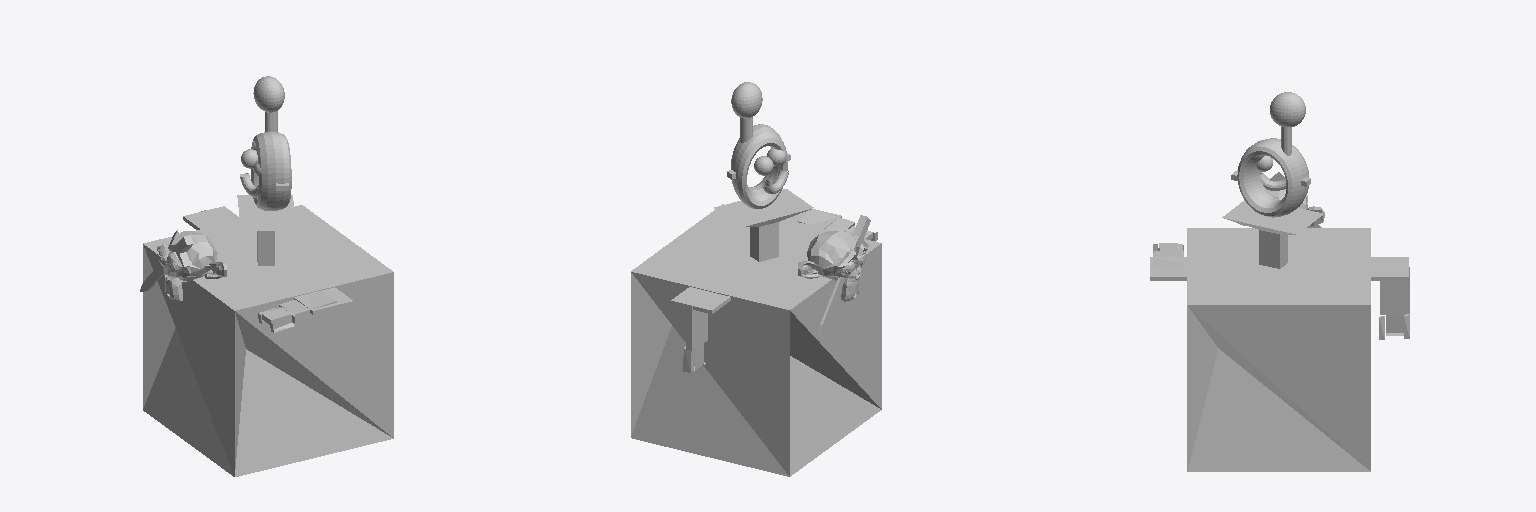
Rendered from Robot_000027.obj.
3 views of the same model, side by side, from view 1: azimuth 30°, elevation 25°; view 2: azimuth 150°, elevation 25°; view 3: azimuth 270°, elevation 25° (orthographic).
Visible parts, largest first — view 1: Cube.001_Cube, Cube_Cube.001, Suzanne, Left_Hand.001_Cube.005, Cube.002_Cube.004, Sphere, Cube.003_Cube.006; view 2: Cube.001_Cube, Cube_Cube.001, Suzanne, Left_Hand_Cube.002, Cube.002_Cube.004, Cube.003_Cube.006, Sphere, Left_Hand.001_Cube.005; view 3: Cube.001_Cube, Cube_Cube.001, Left_Hand_Cube.002, Cube.002_Cube.004, Sphere, Left_Hand.001_Cube.005.
Boxes of the visible parts, <box> form: Cube.001_Cube: <box>143,205,393,476</box>; Cube_Cube.001: <box>237,131,295,265</box>; Suzanne: <box>157,231,226,301</box>; Left_Hand.001_Cube.005: <box>258,291,337,332</box>; Cube.002_Cube.004: <box>183,206,353,314</box>; Sphere: <box>253,76,284,112</box>; Cube.003_Cube.006: <box>140,230,193,291</box>; Cube.001_Cube: <box>631,204,881,476</box>; Cube_Cube.001: <box>714,124,813,261</box>; Suzanne: <box>798,231,867,301</box>; Left_Hand_Cube.002: <box>682,305,707,372</box>; Cube.002_Cube.004: <box>671,209,841,313</box>; Cube.003_Cube.006: <box>817,215,870,337</box>; Sphere: <box>731,82,762,118</box>; Left_Hand.001_Cube.005: <box>798,209,877,241</box>; Cube.001_Cube: <box>1187,228,1370,471</box>; Cube_Cube.001: <box>1222,138,1322,268</box>; Left_Hand_Cube.002: <box>1379,267,1409,339</box>; Cube.002_Cube.004: <box>1150,257,1408,280</box>; Sphere: <box>1270,92,1305,127</box>; Left_Hand.001_Cube.005: <box>1153,243,1184,268</box>.
Size of the model in its own units: 2.3 by 4.11 by 2.83.